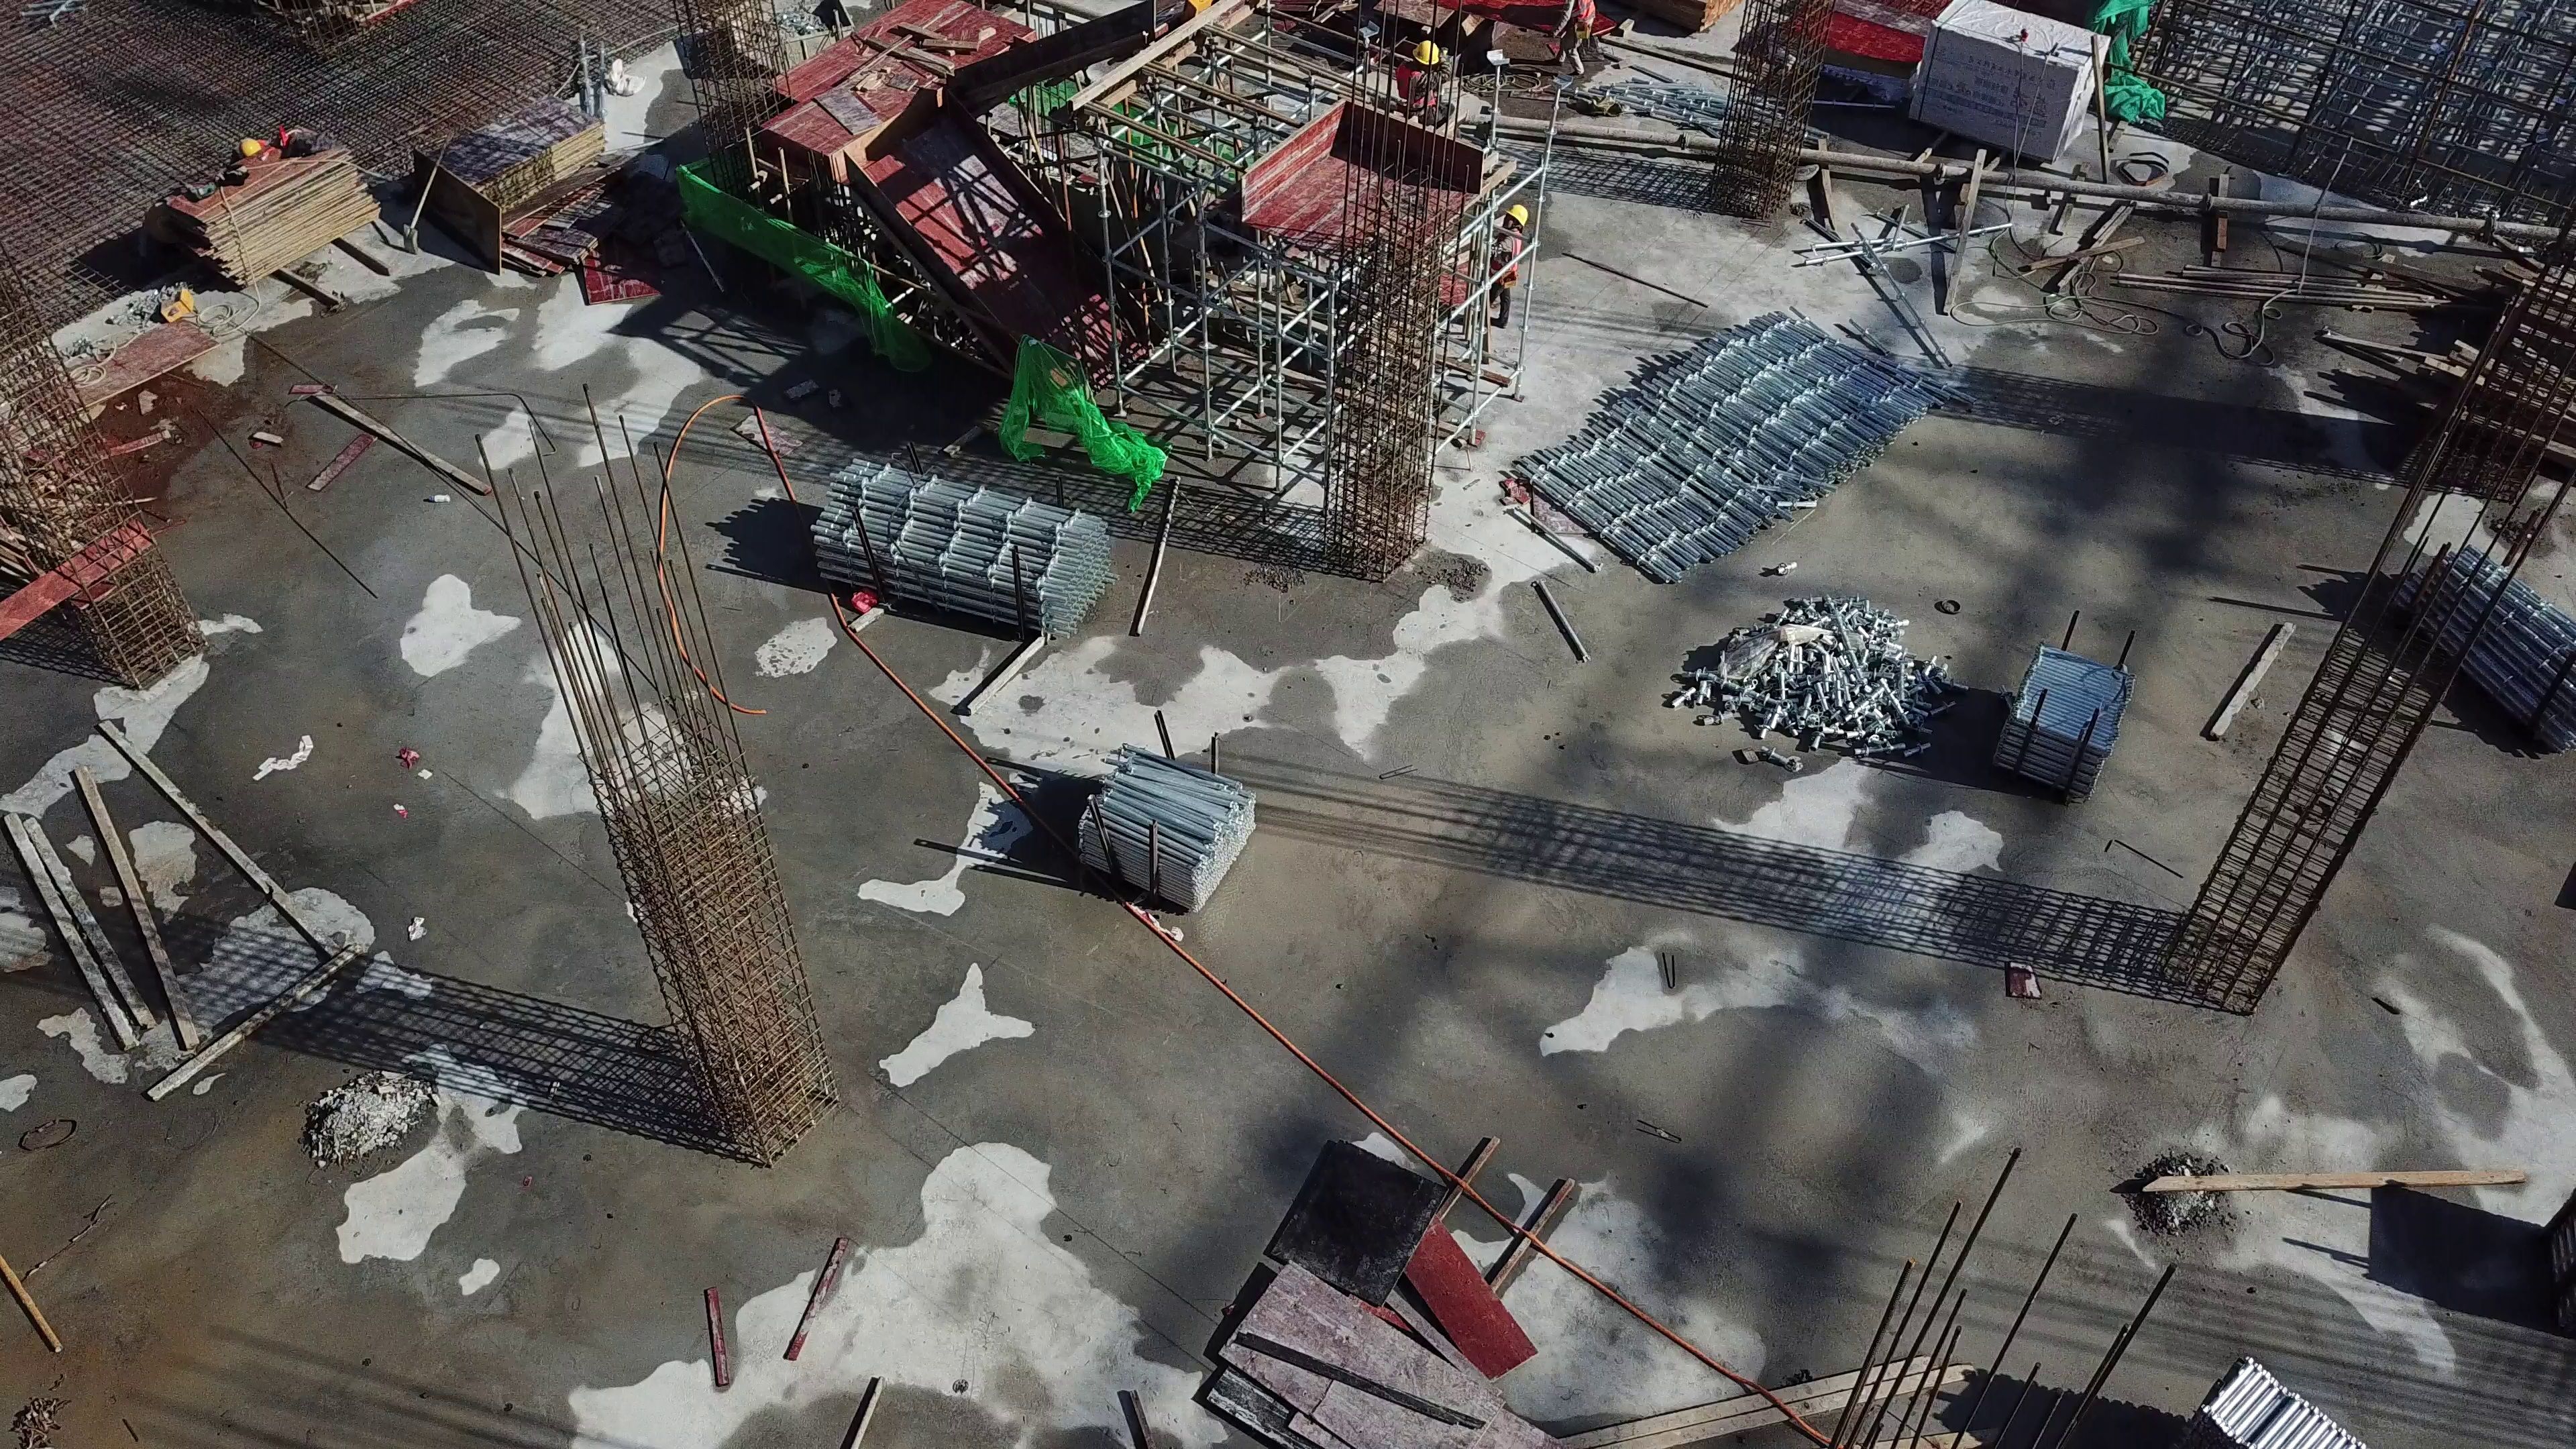board: (154, 123, 396, 310), (414, 95, 606, 269)
person: (1485, 202, 1528, 313), (1400, 45, 1446, 112)
scaffold: (1499, 299, 1945, 604), (822, 444, 1111, 643), (1073, 727, 1257, 928), (2398, 529, 2576, 733), (2003, 625, 2135, 812)
